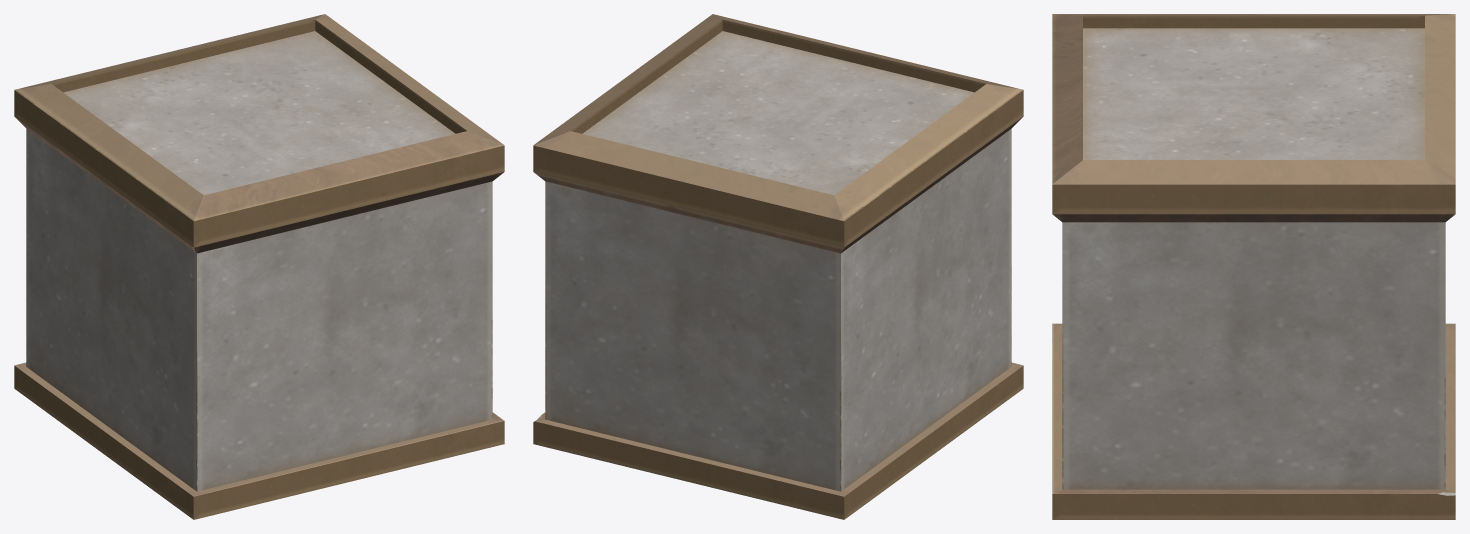
3 views of the same model, side by side, from view 1: azimuth 30°, elevation 25°; view 2: azimuth 150°, elevation 25°; view 3: azimuth 270°, elevation 25° (orthographic). The views are drawn at different scales.
Parts seen in each view (by area): view 1: Cube_068_2_sh_19, Cube_068_2_sh_23, Cube_068_2_sh_12, Cube_068_2_sh_15, Cube_068_2_sh_9, Cube_068_2_sh_1, Cube_068_2_sh_2, Cube_068_2_sh_18, Cube_068_2_sh_7, Cube_068_2_sh_29, Cube_068_2_sh_20, Cube_068_2_sh_6 (+3 smaller); view 2: Cube_068_2_sh_29, Cube_068_2_sh_2, Cube_068_2_sh_21, Cube_068_2_sh_8, Cube_068_2_sh_12, Cube_068_2_sh_17, Cube_068_2_sh_23, Cube_068_2_sh_18, Cube_068_2_sh_7, Cube_068_2_sh_20, Cube_068_2_sh_1, Cube_068_2_sh_6 (+5 smaller); view 3: Cube_068_2_sh_26, Cube_068_2_sh_30, Cube_068_2_sh_2, Cube_068_2_sh_20, Cube_068_2_sh_12, Cube_068_2_sh_7, Cube_068_2_sh_3, Cube_068_2_sh_17, Cube_068_2_sh_25, Cube_068_2_sh_10, Cube_068_2_sh_13, Cube_068_2_sh_28 (+10 smaller).
Part boxes in pixels (x1,y1,x2,y2): Cube_068_2_sh_19: (298,172,493,479); Cube_068_2_sh_23: (115,174,319,396); Cube_068_2_sh_12: (14,70,249,228); Cube_068_2_sh_15: (340,139,504,335); Cube_068_2_sh_9: (164,274,359,479); Cube_068_2_sh_1: (103,399,356,519); Cube_068_2_sh_2: (99,14,370,97); Cube_068_2_sh_18: (56,273,164,453); Cube_068_2_sh_7: (131,90,336,185); Cube_068_2_sh_29: (14,89,68,410); Cube_068_2_sh_20: (328,64,495,172); Cube_068_2_sh_6: (53,162,122,336); Cube_068_2_sh_29: (748,217,886,519); Cube_068_2_sh_2: (533,102,784,271); Cube_068_2_sh_21: (568,286,748,491); Cube_068_2_sh_8: (676,187,823,410); Cube_068_2_sh_12: (780,93,979,247); Cube_068_2_sh_17: (545,189,678,402); Cube_068_2_sh_23: (894,59,1023,294); Cube_068_2_sh_18: (879,256,979,468); Cube_068_2_sh_7: (725,52,901,179); Cube_068_2_sh_20: (604,16,862,93); Cube_068_2_sh_1: (933,280,1023,454); Cube_068_2_sh_6: (868,224,937,399); Cube_068_2_sh_26: (1052,301,1312,519); Cube_068_2_sh_30: (1248,281,1445,486); Cube_068_2_sh_2: (1288,45,1455,261); Cube_068_2_sh_20: (1066,88,1296,201); Cube_068_2_sh_12: (1127,14,1455,64); Cube_068_2_sh_7: (1059,62,1390,124); Cube_068_2_sh_3: (1170,118,1363,294); Cube_068_2_sh_17: (1347,231,1445,445); Cube_068_2_sh_25: (1111,194,1286,283); Cube_068_2_sh_10: (1062,274,1174,449); Cube_068_2_sh_13: (1231,457,1451,519); Cube_068_2_sh_28: (1075,188,1186,303).
Bounding box in the file's own units: 210 × 200 × 210.
Materials: 1 (1 with a texture image).
